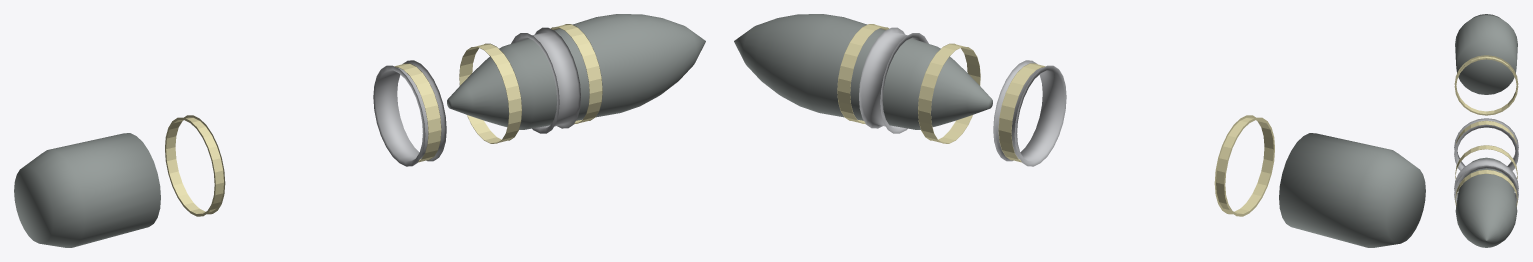
Rendered from RU_SLBM_R29R_LOD1.fbx.
3 renders of one model, left to right at view 1: azimuth 30°, elevation 25°; view 2: azimuth 150°, elevation 25°; view 3: azimuth 270°, elevation 25°, orthographic. The views are drawn at different scales.
Visible parts, largest first — view 1: WPN_RU_SLBM_R29R_LOD1_Body, WPN_RU_SLBM_R29R_LOD1_Tail, WPN_RU_SLBM_R29R_LOD1_Marking, WPN_RU_SLBM_R29R_LOD1_Detail; view 2: WPN_RU_SLBM_R29R_LOD1_Body, WPN_RU_SLBM_R29R_LOD1_Tail, WPN_RU_SLBM_R29R_LOD1_Marking, WPN_RU_SLBM_R29R_LOD1_Detail; view 3: WPN_RU_SLBM_R29R_LOD1_Tail, WPN_RU_SLBM_R29R_LOD1_Body, WPN_RU_SLBM_R29R_LOD1_Marking, WPN_RU_SLBM_R29R_LOD1_Detail.
Boxes of the visible parts, x1,y1,x2,y2 form: WPN_RU_SLBM_R29R_LOD1_Body: (447,14,705,129); WPN_RU_SLBM_R29R_LOD1_Tail: (14,133,160,247); WPN_RU_SLBM_R29R_LOD1_Marking: (165,24,602,216); WPN_RU_SLBM_R29R_LOD1_Detail: (373,27,580,166); WPN_RU_SLBM_R29R_LOD1_Body: (734,14,992,129); WPN_RU_SLBM_R29R_LOD1_Tail: (1279,133,1425,247); WPN_RU_SLBM_R29R_LOD1_Marking: (837,24,1274,216); WPN_RU_SLBM_R29R_LOD1_Detail: (859,27,1066,166); WPN_RU_SLBM_R29R_LOD1_Tail: (1455,14,1517,94); WPN_RU_SLBM_R29R_LOD1_Body: (1455,157,1517,247); WPN_RU_SLBM_R29R_LOD1_Marking: (1454,55,1518,206); WPN_RU_SLBM_R29R_LOD1_Detail: (1454,118,1518,203).
Size of the model in its own units: 14.1 by 1.89 by 1.89.
